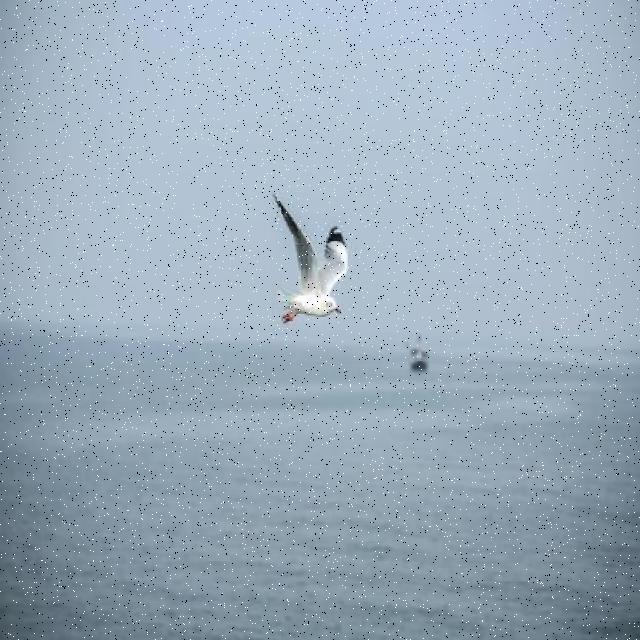bird: (272, 192, 350, 326)
